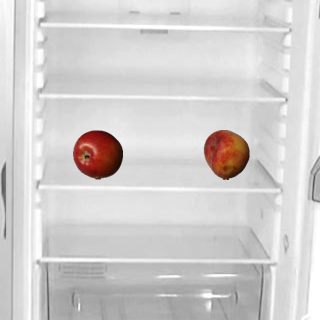Apple Braeburn: (72, 129, 122, 179)
Peach: (201, 129, 251, 179)
